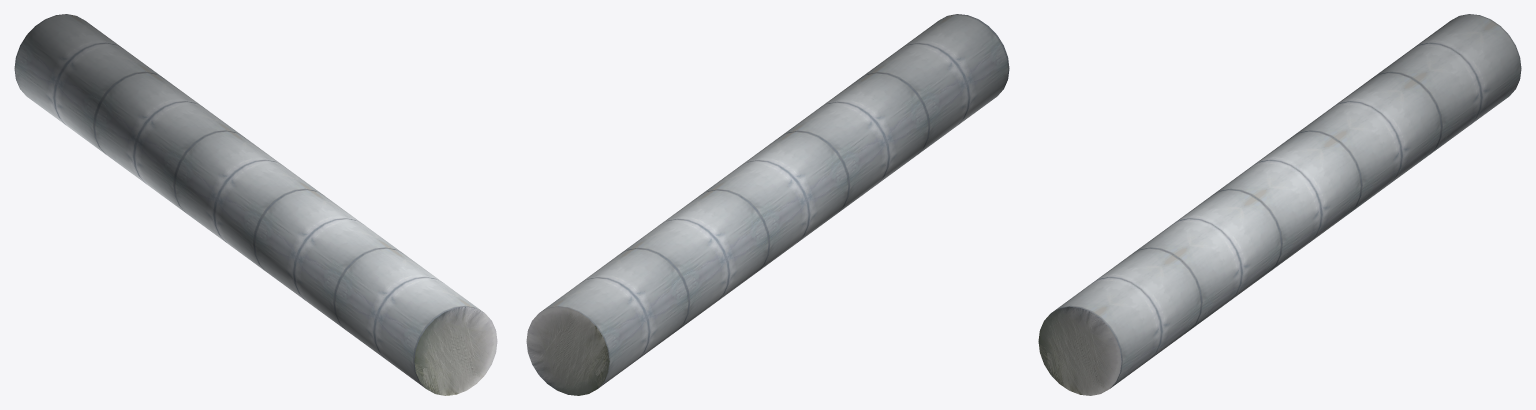
Rendered from hay-bale-plastic-1x10-cbj_LOD00.gltf.
3 views of the same model, side by side, from view 1: azimuth 30°, elevation 25°; view 2: azimuth 150°, elevation 25°; view 3: azimuth 330°, elevation 25° (orthographic).
Parts seen in each view (by area): view 1: Cube; view 2: Cube; view 3: Cube.
Part boxes in pixels (bbox=[...]): Cube: bbox=[14, 14, 497, 395]; Cube: bbox=[526, 14, 1009, 395]; Cube: bbox=[1038, 14, 1521, 395].
Size of the model in its own units: 1.8 by 1.8 by 15.
